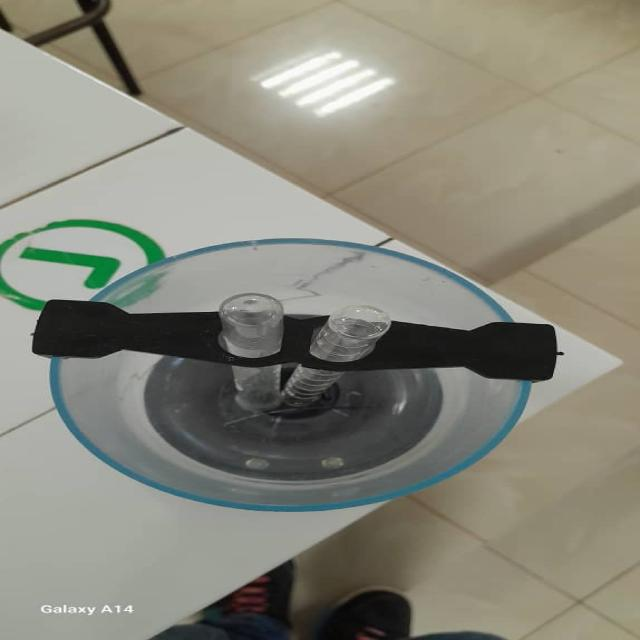Electrolyzer: (18, 233, 575, 516)
